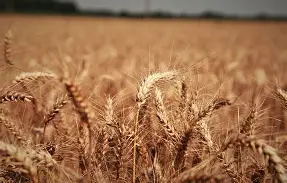crops: (1, 24, 284, 180), (3, 0, 282, 22), (219, 40, 284, 89), (1, 135, 68, 181)
